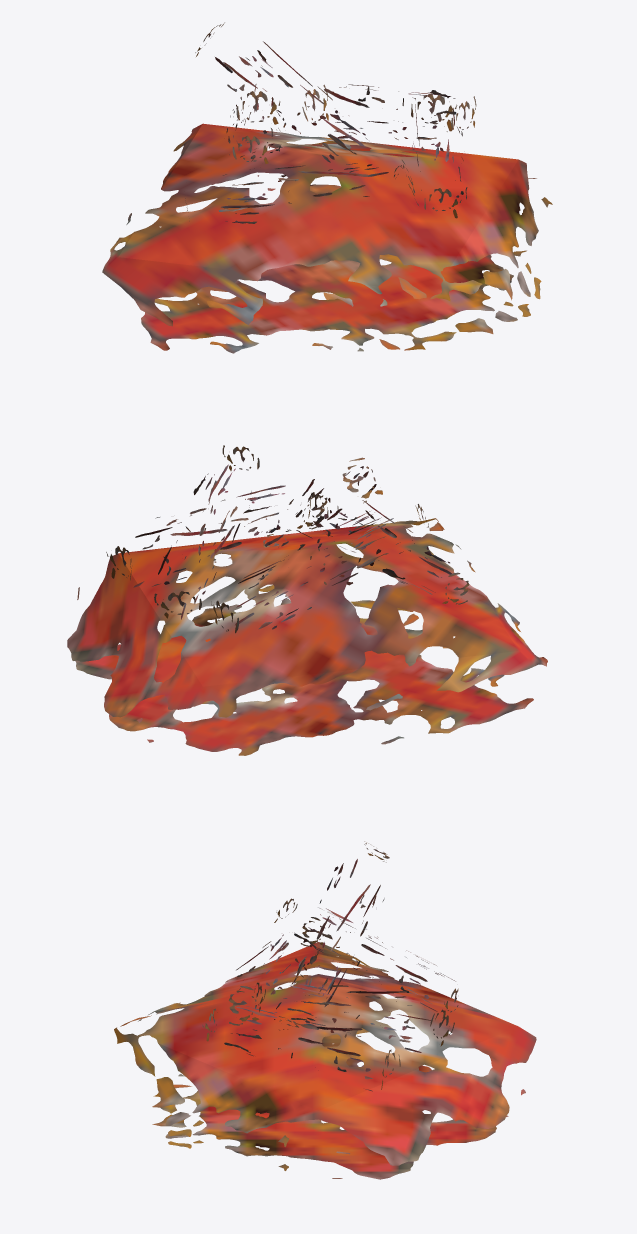
File: eqp_camping_log_burnt_l2.fbx
3 renders of one model, top to bottom at view 1: azimuth 30°, elevation 25°; view 2: azimuth 150°, elevation 25°; view 3: azimuth 270°, elevation 25°, orthographic. The views are drawn at different scales.
Visible parts, largest first — view 1: mesh_node; view 2: mesh_node; view 3: mesh_node.
Part boxes in pixels (box(x1,y1,x2,y2)): mesh_node: box(102, 22, 552, 353); mesh_node: box(67, 445, 547, 755); mesh_node: box(114, 841, 536, 1179).
Size of the model in its own units: 1.23 by 0.498 by 1.23.
